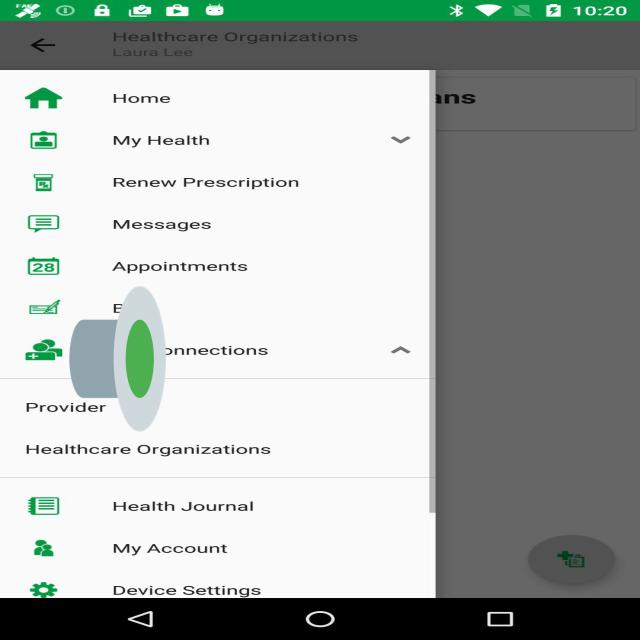social proof: (69, 225, 166, 493)
